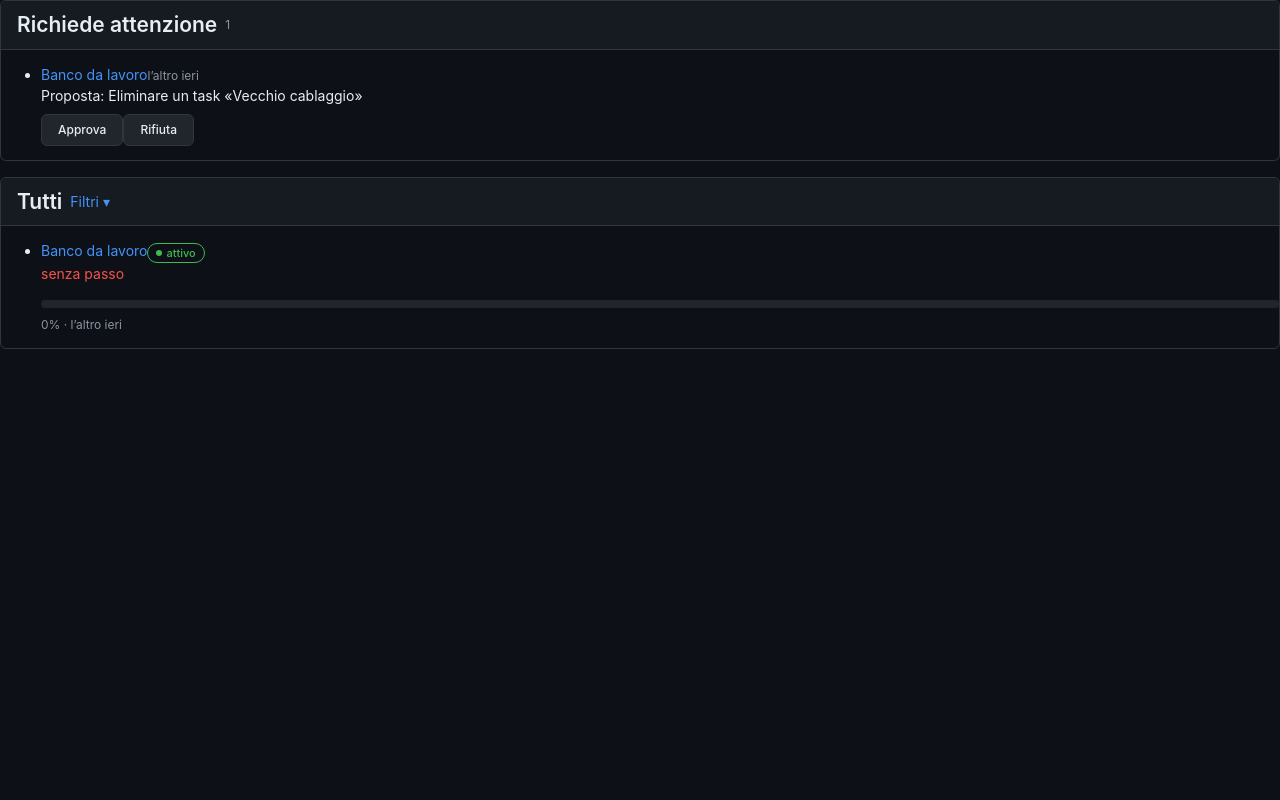
Scenario: verifyD: phone dashboard actions › Rifiuta on a proposal posts the rejection and refetches the pending proposals
The width and height of the screenshot is (1280, 800).
Check: the text "Proposta: Eliminare un task «Vecchio cablaggio»" is shown, box [41,86,363,104]
What coordinates should you click on to do the following:
click the button "Rifiuta"
I would click on:
 (159, 130)
Its box is [123,114,194,146].
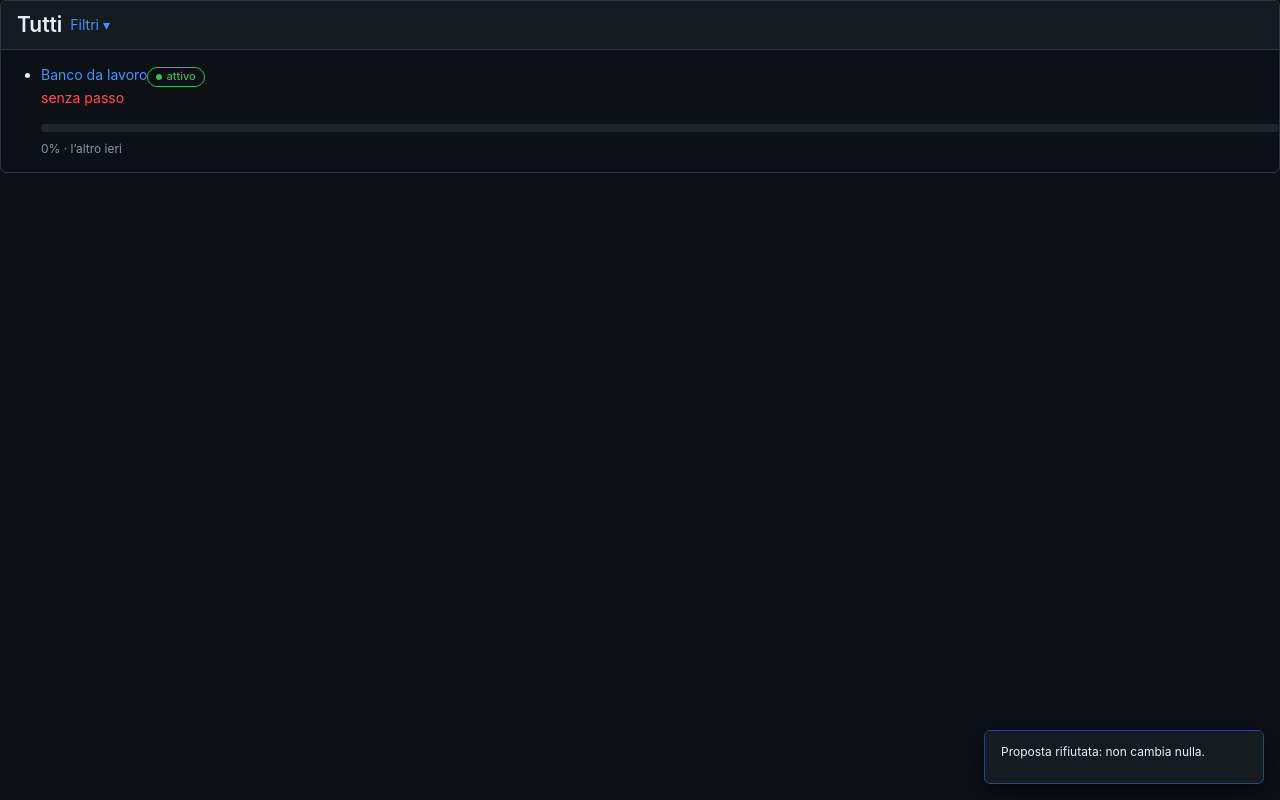
Check: the text "Vecchio cablaggio" is gone
